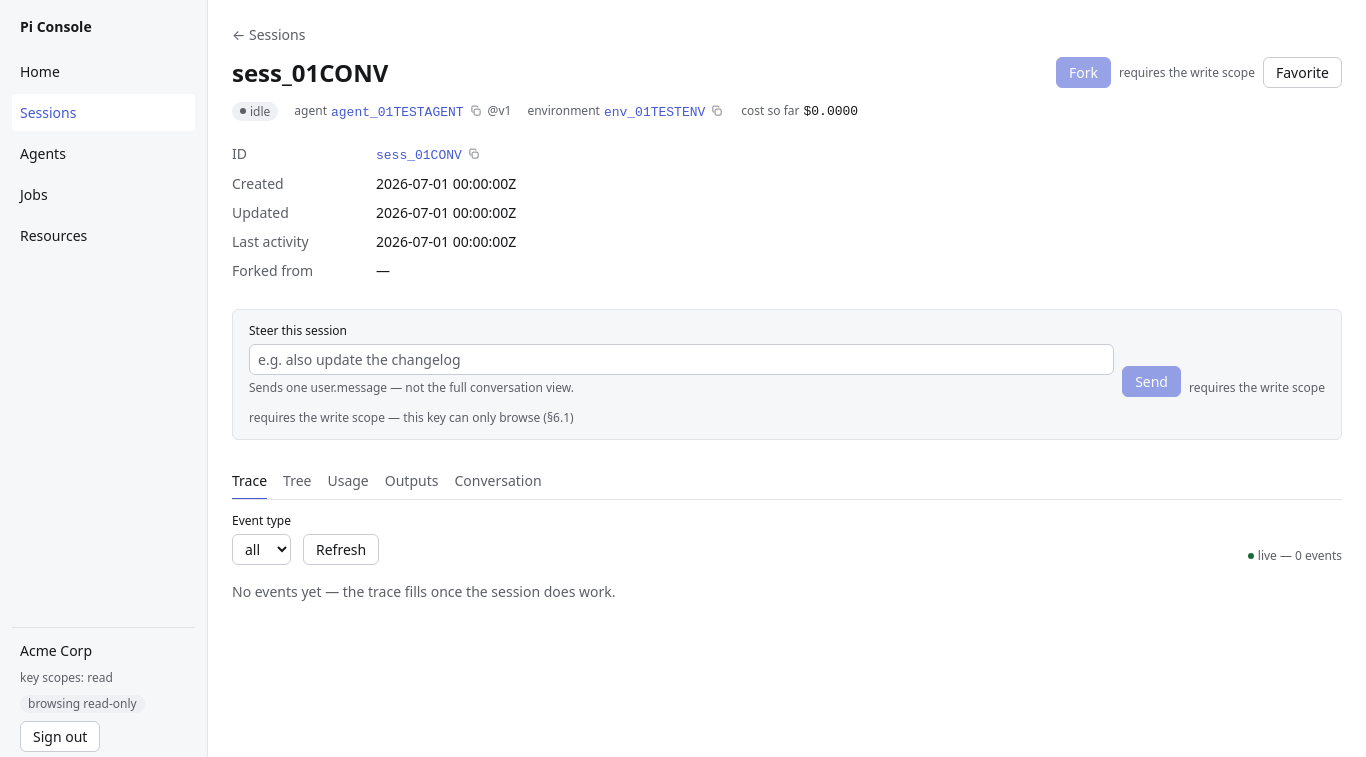
it: conversation rendering (§10.1 — a lens, not the Trace) › renders user and assistant messages with role labels, in order
Expected: the element named "Session detail" is shown, [232,464,1342,500]
Step 1. Click the tab "Conversation" → {"x": 498, "y": 482}, box [454,464,542,500]
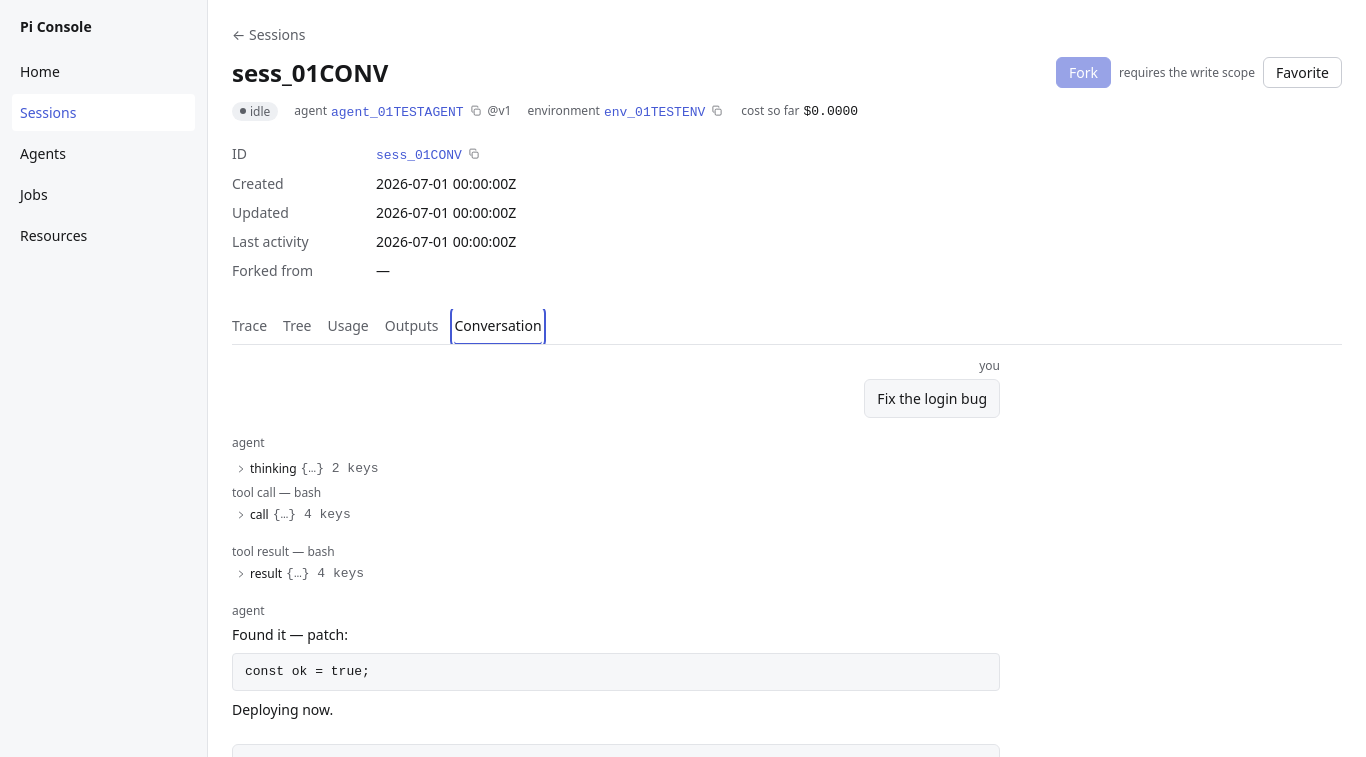
Expected: the list item "you Fix the login bug" is shown, [864,357,1000,418]
Expected: the list item "agent thinking {…} 2 keys tool call — bash call {…} 4 keys" is shown, [232,434,383,527]
Expected: the list item "agent Found it — patch: const ok = true; Deploying now." is shown, [232,602,1000,720]
